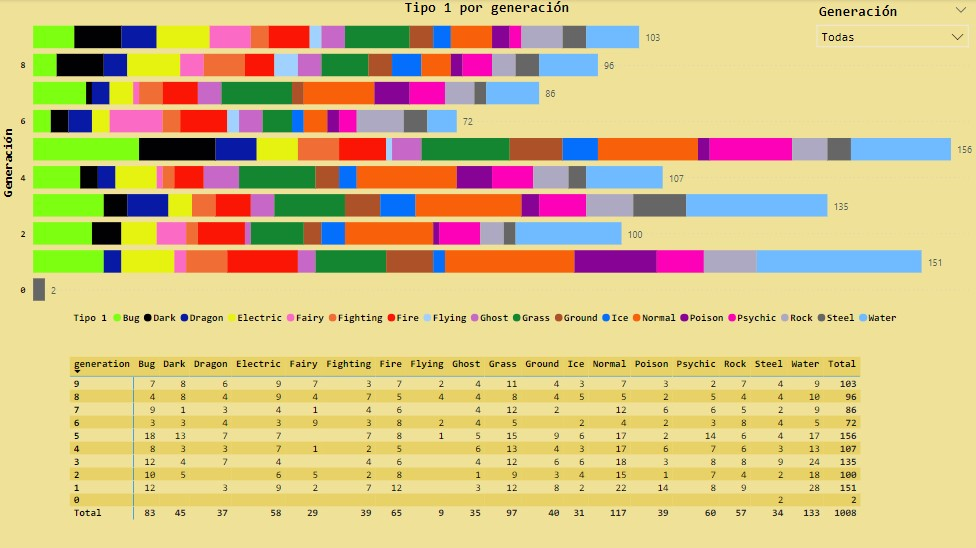

The page's visual inventory and layout, read from the dashboard file:
{"tool":"powerbi","page":{"name":"Tipo1/generación","canvas":[1280,720],"ordinal":1},"visuals":[{"type":"pivotTable","fields":{"Rows":["poke.generation"],"Values":["CountNonNull(poke.type1)"],"Columns":["poke.type1"]},"box":[89.5,463.8,1099.7,227.1],"z":0},{"type":"barChart","title":"Tipo 1 por generación","fields":{"Category":["poke.generation"],"Series":["poke.type1"],"Y":["CountNonNull(poke.type1)"]},"box":[0,0,1280,436.3],"z":1000},{"type":"slicer","fields":{"Values":["poke.generation","poke.number"]},"box":[1061.7,0,218.6,72],"z":2000}]}

Visuals, with their boxes in screenshot pixels (x1, y1, x2, y2), scaled from the page's 1280x720 canvas onto the 976x548 screenshot:
pivotTable - poke.generation x CountNonNull(poke.type1): bbox=(68, 353, 907, 526)
"Tipo 1 por generación" barChart: bbox=(0, 0, 975, 332)
slicer - poke.generation x poke.number: bbox=(810, 0, 975, 55)
